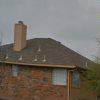Chimney: (8, 15, 32, 61)
